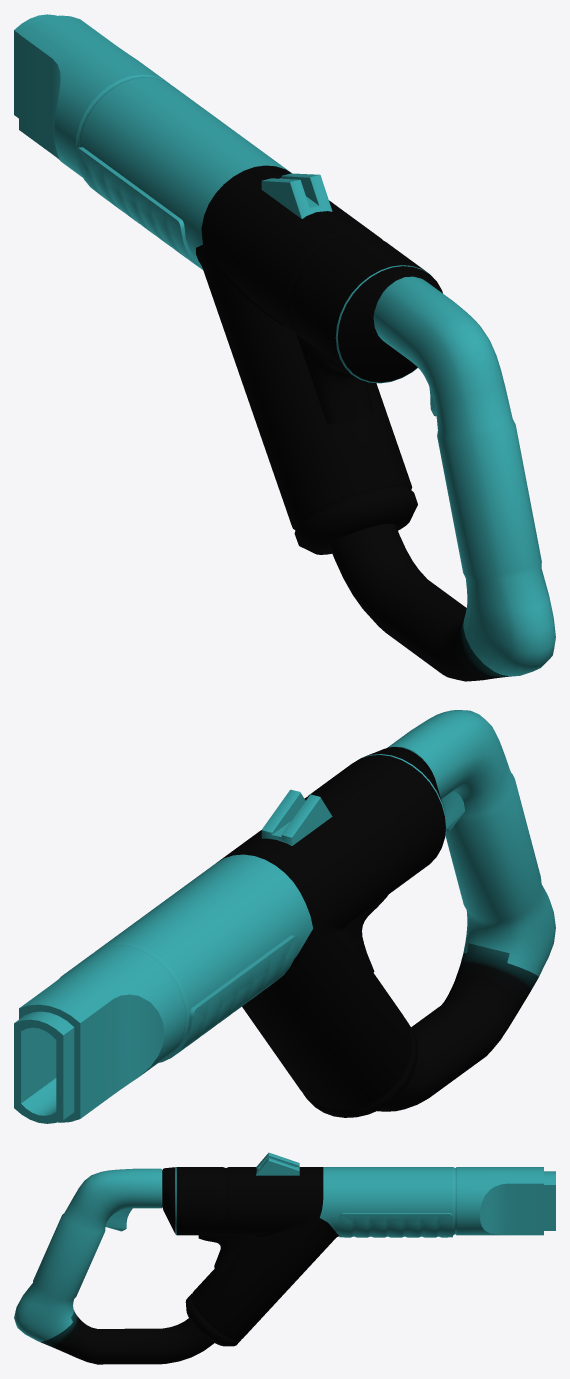
The model's file is SubGun.FBX.
The picture shows the model from 3 angles, top to bottom: view 1: azimuth 30°, elevation 25°; view 2: azimuth 150°, elevation 25°; view 3: azimuth 270°, elevation 25°; orthographic projection. The views are drawn at different scales.
Parts seen in each view (by area): view 1: Barrel_LP; view 2: Barrel_LP; view 3: Barrel_LP.
Boxes of the visible parts, box(x1,y1,x2,y2) form: Barrel_LP: box(14, 14, 555, 681); Barrel_LP: box(14, 710, 555, 1123); Barrel_LP: box(14, 1152, 555, 1364).
Bounding box in the file's own units: 67.51 × 210 × 500.
